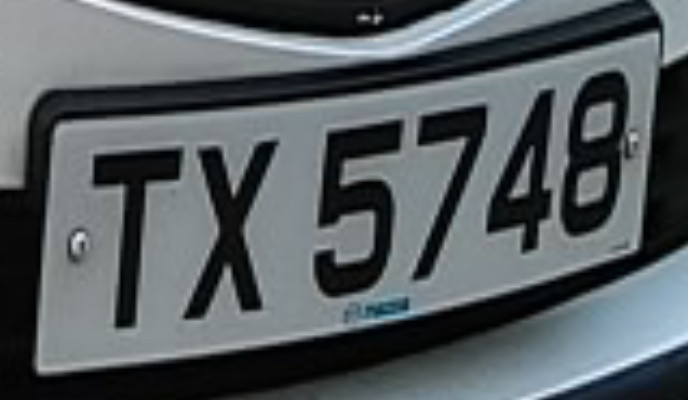4: (478, 79, 565, 265)
5: (303, 110, 411, 317)
7: (401, 89, 491, 290)
8: (555, 61, 637, 247)
T: (79, 128, 188, 337)
X: (177, 124, 292, 331)
